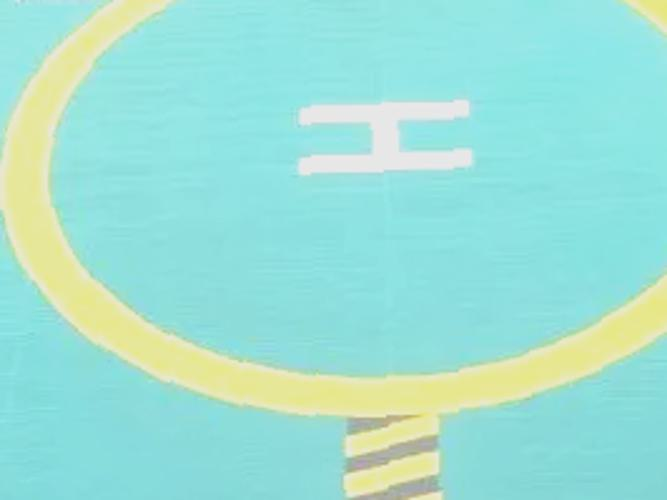Apron: (7, 2, 667, 421)
